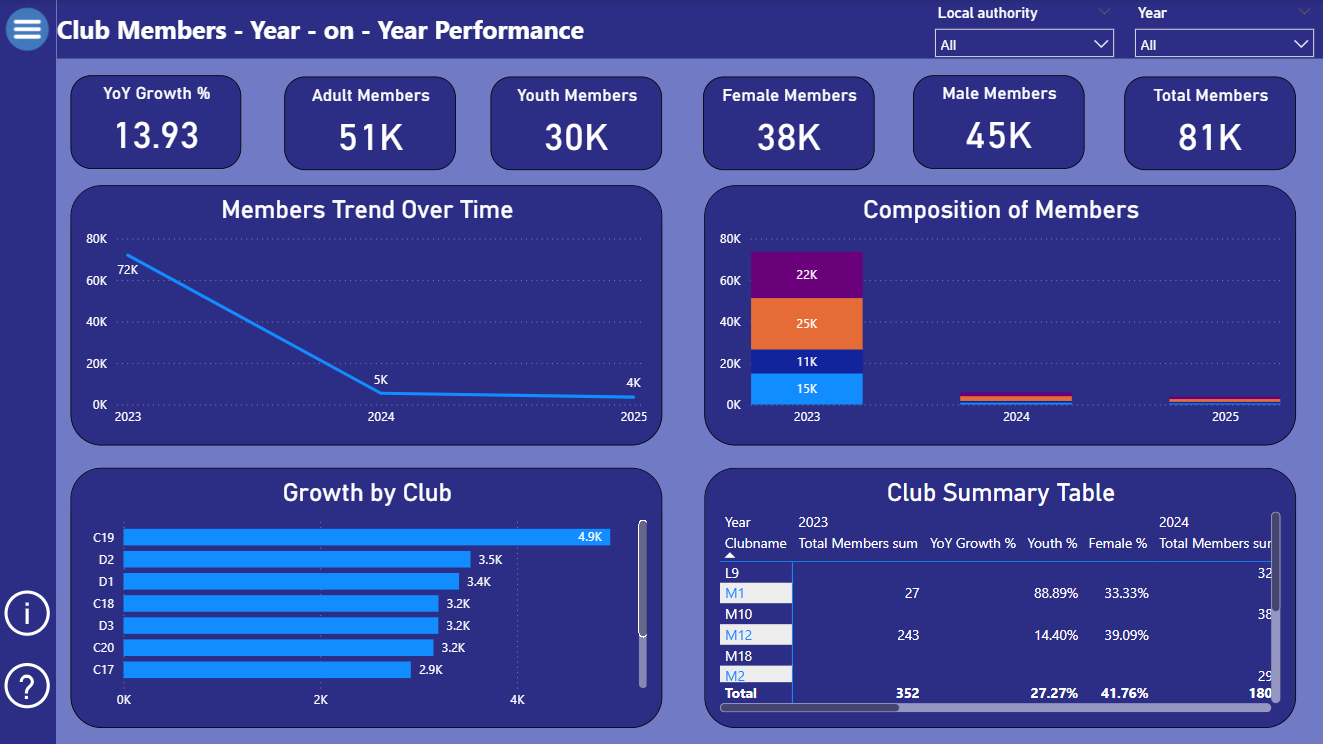

What the dashboard file says about the page in this screenshot:
{"tool":"powerbi","page":{"name":"Club Members","canvas":[1280,720],"ordinal":0},"visuals":[{"type":"shape","title":"Menu Bar","box":[0,0,56.2,720],"z":0,"group":"g1"},{"type":"shape","title":"Page Title","box":[56.3,0,1224.1,57.5],"z":0},{"type":"card","title":"YoY Growth %","fields":{"Values":["Club Members.YoY Growth %"]},"box":[70,74,165,90],"z":1000},{"type":"actionButton","title":"Help Button","box":[0,635,56.2,56.2],"z":1000,"group":"g1"},{"type":"card","title":"Adult Members","fields":{"Values":["Club Members.Adult Members"]},"box":[275.7,74.3,165.7,90],"z":2000},{"type":"actionButton","title":"Info","box":[0,565,56.2,56.2],"z":2000,"group":"g1"},{"type":"actionButton","title":"Menu Button","box":[0,0,56.2,57.5],"z":3000,"group":"g1"},{"type":"card","title":"Youth Members","fields":{"Values":["Club Members.Youth Members"]},"box":[475.7,74.3,165.7,90],"z":3000},{"type":"card","title":"Female Members","fields":{"Values":["Club Members.Female Members"]},"box":[680,74.3,165.7,90],"z":4000},{"type":"card","title":"Male Members","fields":{"Values":["Club Members.Male Members"]},"box":[883.6,73.7,165.7,90],"z":5000},{"type":"card","title":"Total Members","fields":{"Values":["Club Members.Total Members sum"]},"box":[1087.1,74.3,165.7,90],"z":6000},{"type":"lineChart","title":"Members Trend Over Time","fields":{"Category":["Club Members.Year"],"Y":["Club Members.Total Members sum"]},"box":[70,180,571.4,251.4],"z":7000},{"type":"columnChart","title":"Composition of Members","fields":{"Category":["Club Members.Year"],"Y":["Club Members.Youth Male Total","Club Members.Youth Female Total","Sum(Club Members.Adult Male)","Sum(Club Members.Adult Female)"]},"box":[681.4,180,571.4,251.4],"z":8000},{"type":"clusteredBarChart","title":"Growth by Club","fields":{"Category":["Club Members.Clubname"],"Y":["Sum(Club Members.Total Members)"]},"box":[70,452.9,571.4,251.4],"z":9000},{"type":"pivotTable","title":"Club Summary Table","fields":{"Rows":["Club Members.Clubname"],"Columns":["Club Members.Year"],"Values":["Club Members.Total Members sum","Club Members.YoY Growth %","Club Members.Youth %","Club Members.Female %"]},"box":[681.4,452.9,571.4,251.4],"z":10000},{"type":"slicer","title":"Year Slicer","fields":{"Values":["Club Members.Year"]},"box":[1086.8,0,193.2,57.2],"z":10500},{"type":"slicer","title":"Local Authority Slicer","fields":{"Values":["Clubs.Local  authority"]},"box":[893.6,0,193.2,57.2],"z":12001},{"type":"group","id":"g1","title":"Menu Bar","box":[0,0,56.2,720],"z":12501}]}

Visuals, with their boxes in screenshot pixels (x1, y1, x2, y2), scaled from the page's 1280x720 canvas onto the 1323x744 screenshot:
"Menu Bar" shape: 0 0 58 743
"Page Title" shape: 58 0 1322 59
"YoY Growth %" card: 72 76 243 169
"Help Button" actionButton: 0 656 58 714
"Adult Members" card: 285 77 456 170
"Info" actionButton: 0 584 58 642
"Menu Button" actionButton: 0 0 58 59
"Youth Members" card: 492 77 663 170
"Female Members" card: 703 77 874 170
"Male Members" card: 913 76 1085 169
"Total Members" card: 1124 77 1295 170
"Members Trend Over Time" lineChart: 72 186 663 446
"Composition of Members" columnChart: 704 186 1295 446
"Growth by Club" clusteredBarChart: 72 468 663 728
"Club Summary Table" pivotTable: 704 468 1295 728
"Year Slicer" slicer: 1123 0 1322 59
"Local Authority Slicer" slicer: 924 0 1123 59
"Menu Bar" group: 0 0 58 743
